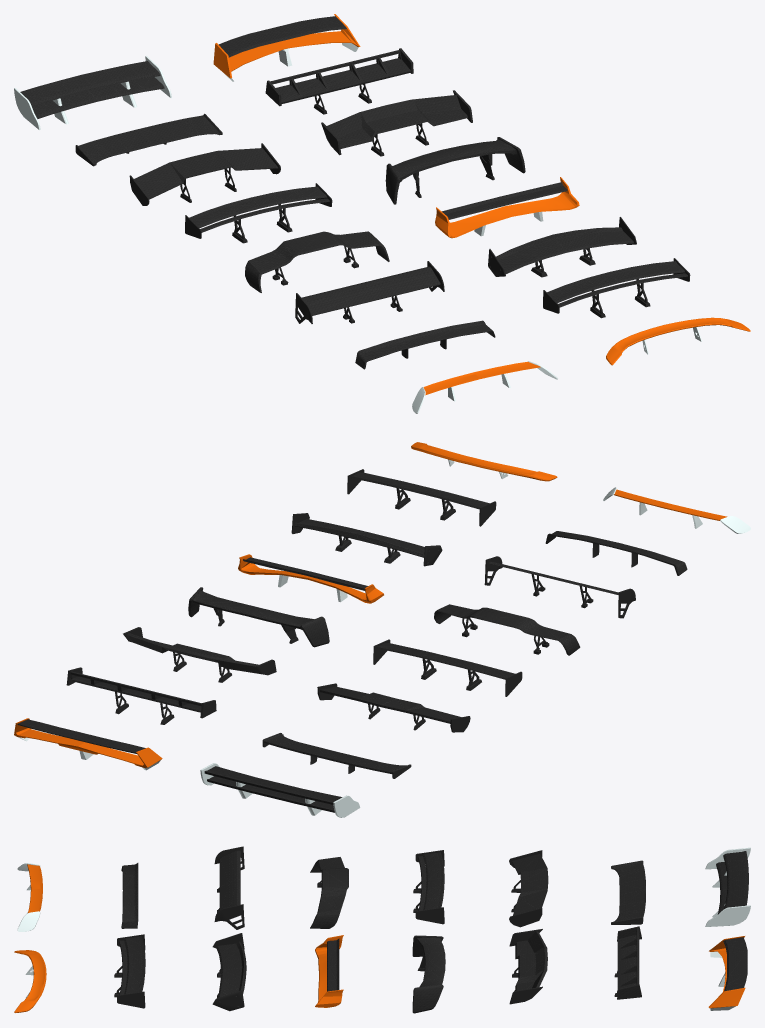
File: Spoilers.FBX
3 renders of one model, top to bottom at view 1: azimuth 30°, elevation 25°; view 2: azimuth 150°, elevation 25°; view 3: azimuth 270°, elevation 25°, orthographic. The views are drawn at different scales.
Parts seen in each view (by area): view 1: Spoiler_07, Spoiler_13, Spoiler_15, Spoiler_05, Spoiler_14, Spoiler_11, Spoiler_02, Spoiler_10, Spoiler_09, Spoiler_04, Spoiler_03, Spoiler_06 (+4 smaller); view 2: Spoiler_07, Spoiler_15, Spoiler_12, Spoiler_03, Spoiler_10, Spoiler_05, Spoiler_14, Spoiler_11, Spoiler_09, Spoiler_04, Spoiler_13, Spoiler_06 (+4 smaller); view 3: Spoiler_07, Spoiler_05, Spoiler_13, Spoiler_12, Spoiler_10, Spoiler_15, Spoiler_03, Spoiler_04, Spoiler_09, Spoiler_02, Spoiler_06, Spoiler_14 (+4 smaller).
Boxes of the visible parts, x1,y1,x2,y2 form: Spoiler_07: (14, 55, 171, 130); Spoiler_13: (321, 90, 472, 156); Spoiler_15: (213, 14, 360, 81); Spoiler_05: (129, 143, 280, 205); Spoiler_14: (265, 48, 413, 114); Spoiler_11: (435, 177, 579, 238); Spoiler_02: (295, 261, 444, 323); Spoiler_10: (488, 217, 636, 277); Spoiler_09: (543, 258, 690, 318); Spoiler_04: (185, 183, 332, 243); Spoiler_03: (245, 231, 389, 292); Spoiler_06: (75, 113, 222, 166); Spoiler_07: (200, 763, 360, 817); Spoiler_15: (14, 718, 162, 770); Spoiler_12: (188, 587, 329, 647); Spoiler_03: (434, 604, 580, 655); Spoiler_10: (291, 513, 442, 566); Spoiler_05: (317, 683, 470, 732); Spoiler_14: (66, 667, 216, 724); Spoiler_11: (238, 554, 383, 603); Spoiler_09: (347, 469, 496, 526); Spoiler_04: (373, 639, 522, 696); Spoiler_13: (123, 627, 276, 682); Spoiler_06: (262, 733, 411, 778); Spoiler_07: (705, 847, 750, 926); Spoiler_05: (509, 850, 548, 927); Spoiler_13: (509, 929, 547, 1004); Spoiler_12: (412, 935, 445, 1013); Spoiler_10: (212, 933, 246, 1011); Spoiler_15: (708, 936, 747, 1010); Spoiler_03: (310, 857, 348, 928); Spoiler_04: (413, 850, 444, 924); Spoiler_09: (114, 934, 145, 1008); Spoiler_02: (214, 846, 244, 929); Spoiler_06: (611, 860, 645, 924); Spoiler_14: (614, 926, 641, 999).
Size of the model in its own units: 3.47 by 0.3532 by 7.39.
4 materials, 1 textured.
